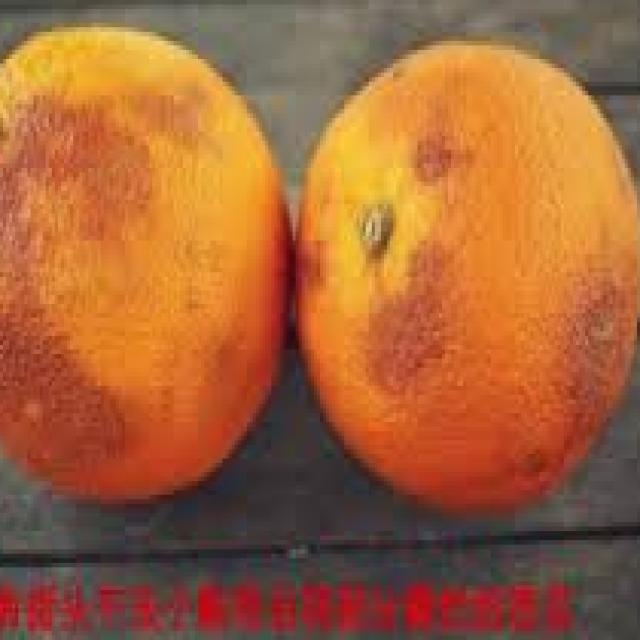inorganic: (281, 47, 624, 534), (7, 22, 311, 552)
